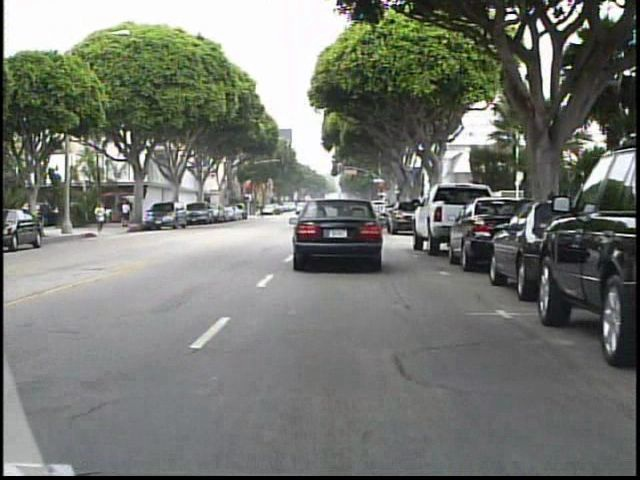person: (92, 198, 109, 237), (121, 198, 135, 232), (255, 200, 271, 224)
